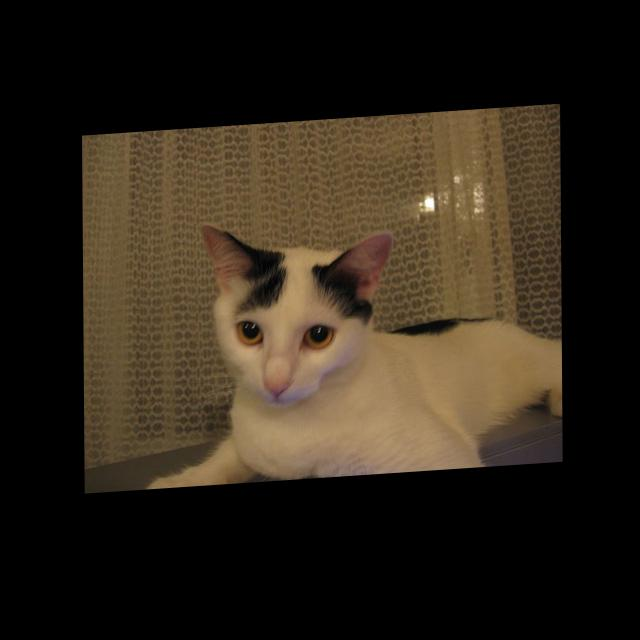animals: (202, 216, 390, 399)
